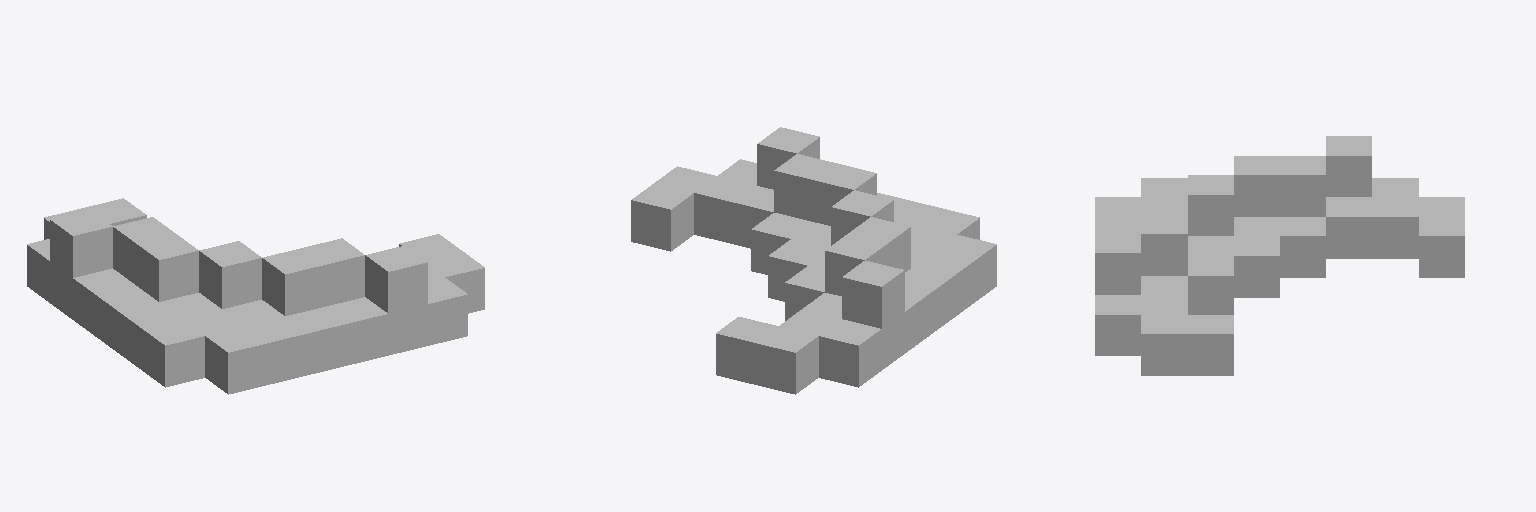
Rendered from leef.obj.
3 renders of one model, left to right at view 1: azimuth 30°, elevation 25°; view 2: azimuth 150°, elevation 25°; view 3: azimuth 270°, elevation 25°, orthographic.
Bounding box in the file's own units: 8 × 2 × 8.